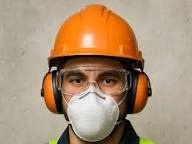safety_goggles: (51, 65, 135, 95)
